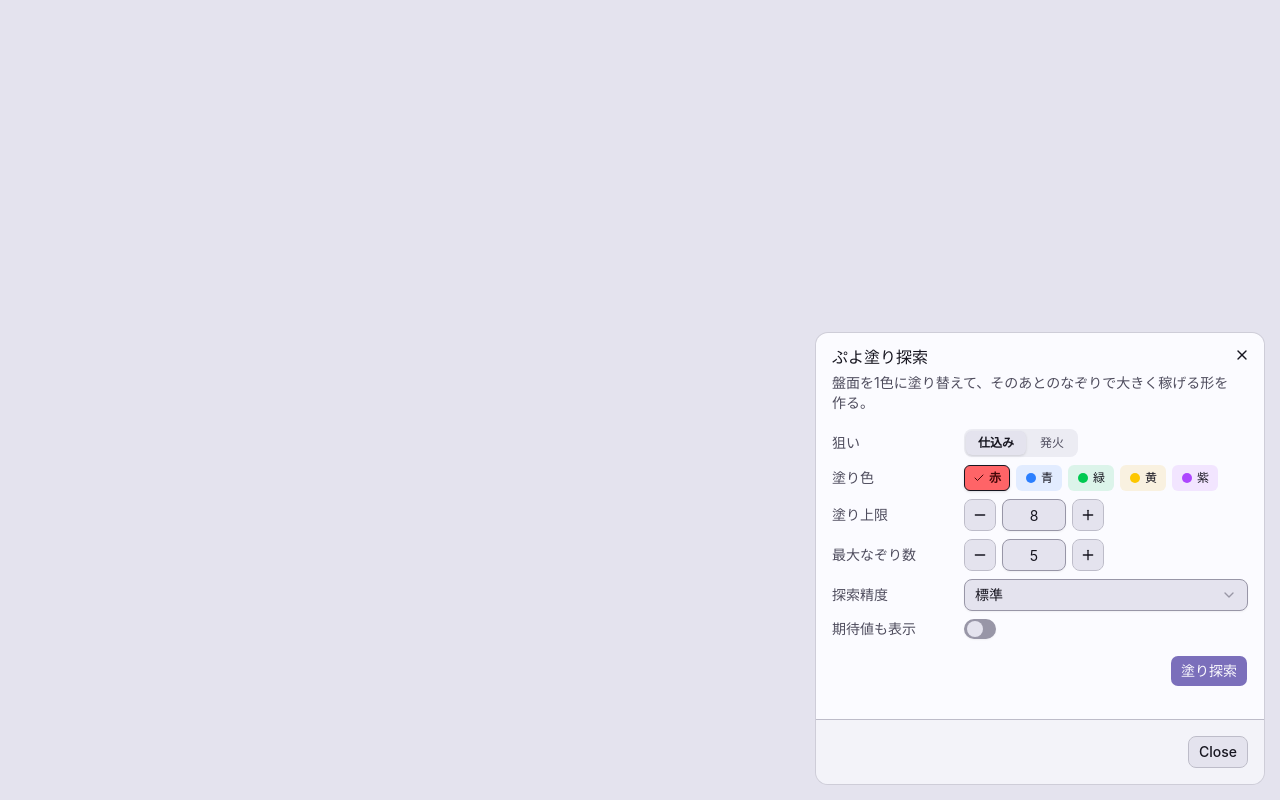
Test: PaintSearchDialog › offers the ultra precision when igniting even on wasm
This screenshot has width=1280, height=800.
Click the radio button labelled "発火" at (1052, 442), box [1040,435,1064,450]
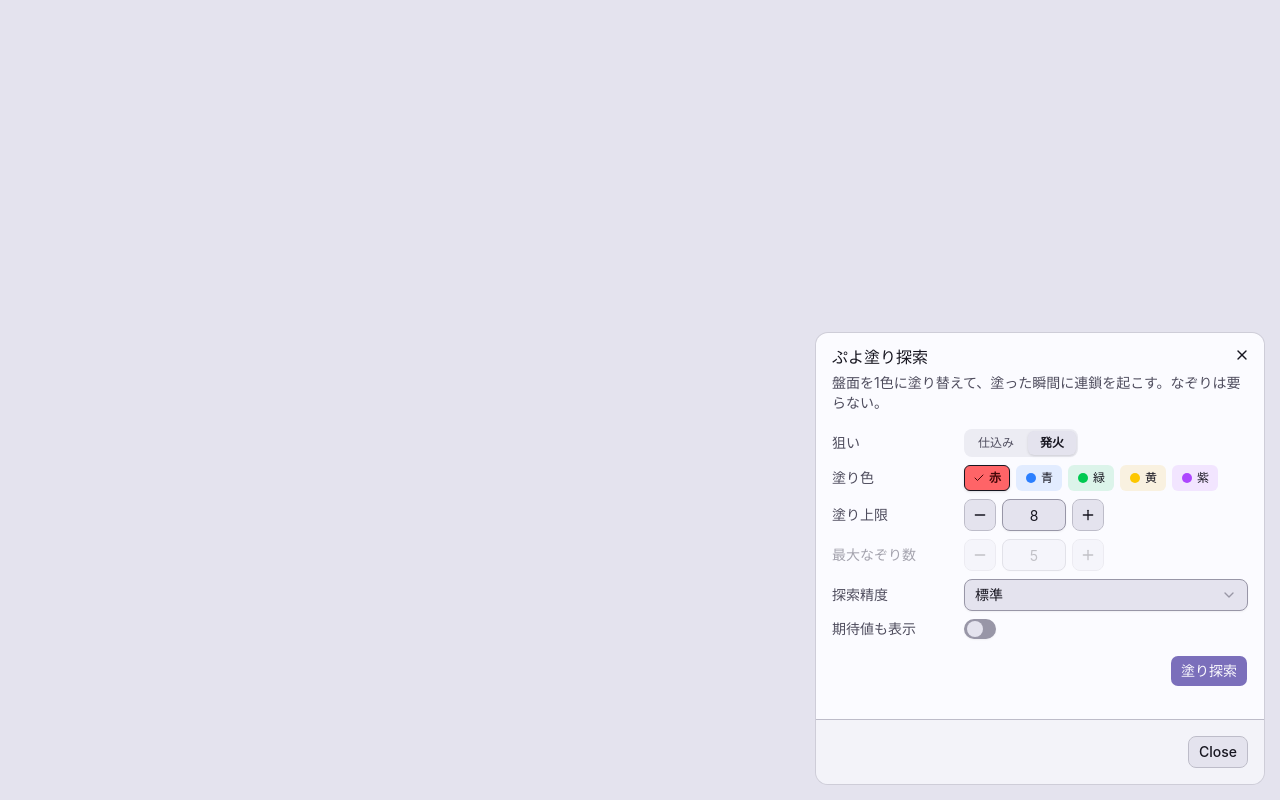
Click the dropdown named "探索精度の選択" at (989, 594), box [964,579,1248,611]
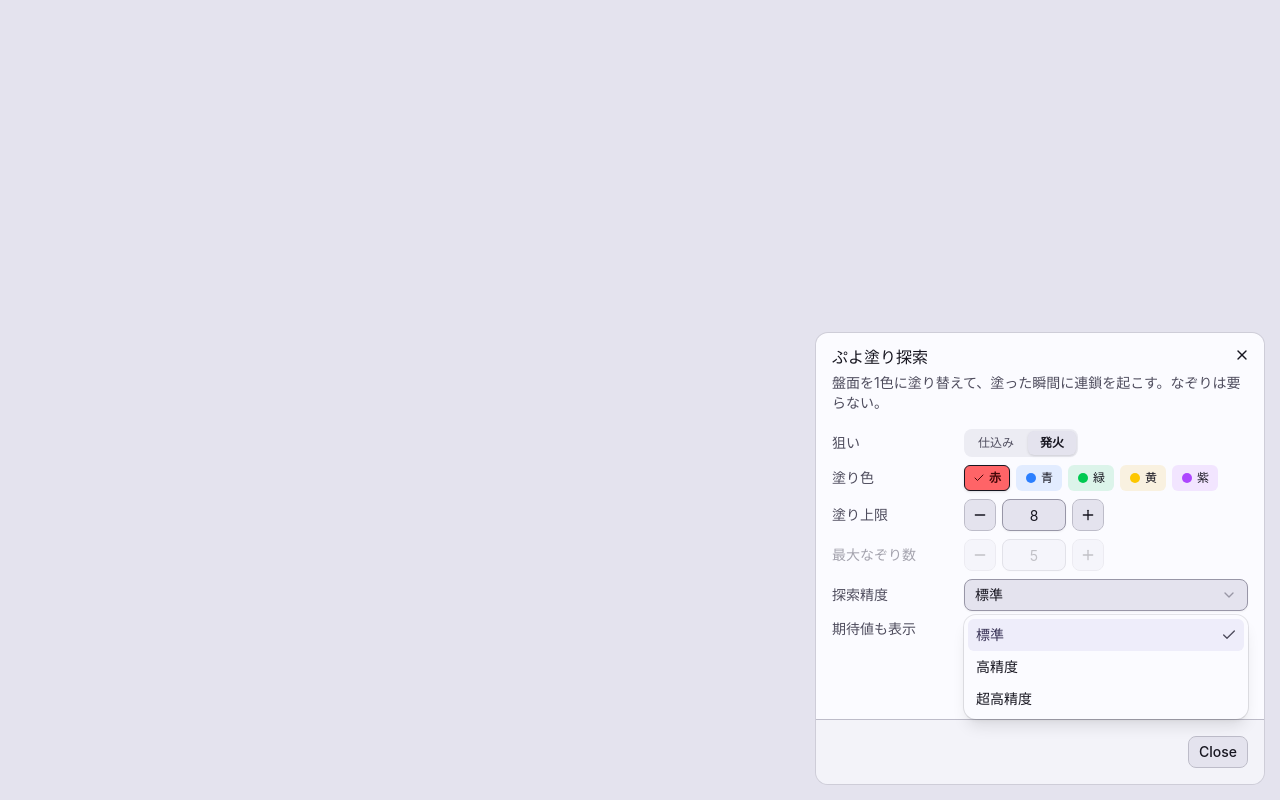
Expected: the option "超高精度" is shown, [976,690,1032,707]
